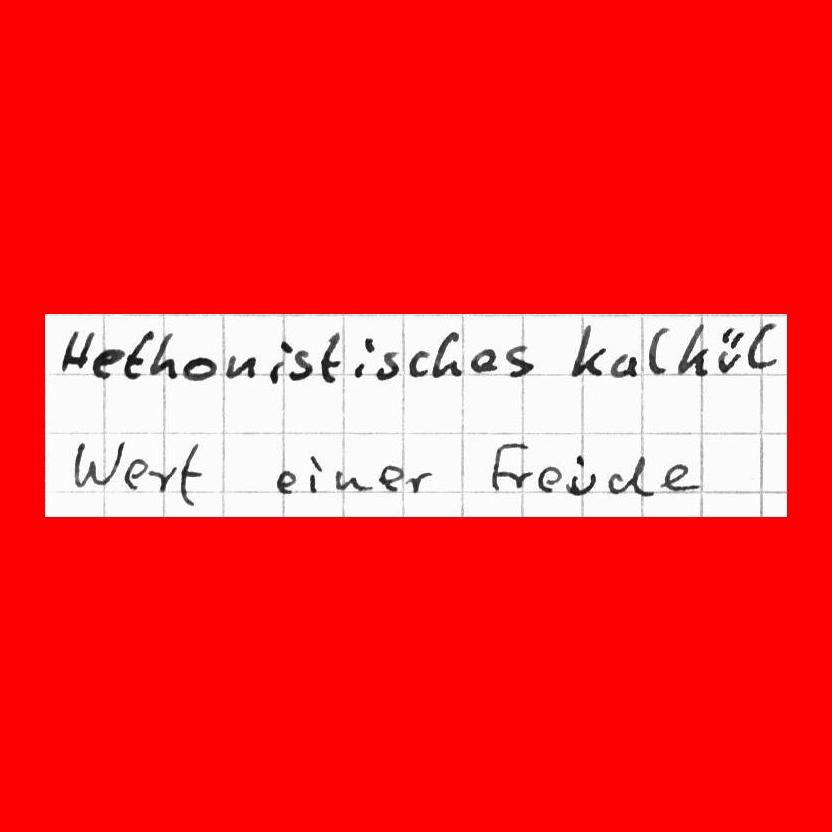Char: (72, 441, 122, 490), (487, 440, 526, 496), (569, 321, 606, 379), (674, 322, 709, 378), (747, 319, 781, 375), (174, 442, 204, 503), (431, 328, 465, 381), (609, 456, 654, 496), (57, 326, 92, 372), (713, 324, 744, 375), (124, 328, 152, 382), (645, 322, 671, 379), (567, 453, 598, 495), (318, 329, 341, 384), (266, 339, 293, 385), (660, 460, 697, 493), (151, 333, 177, 376), (503, 342, 534, 378), (92, 347, 126, 379), (333, 467, 374, 492), (181, 355, 217, 383), (352, 334, 373, 381), (224, 351, 257, 380), (122, 456, 148, 492), (289, 345, 313, 383), (469, 345, 499, 375), (376, 463, 404, 493), (375, 349, 401, 381), (610, 352, 640, 378), (149, 465, 174, 495), (404, 469, 431, 496), (536, 464, 561, 493), (306, 454, 324, 493), (406, 348, 429, 378), (274, 467, 297, 494), (508, 470, 533, 489)
